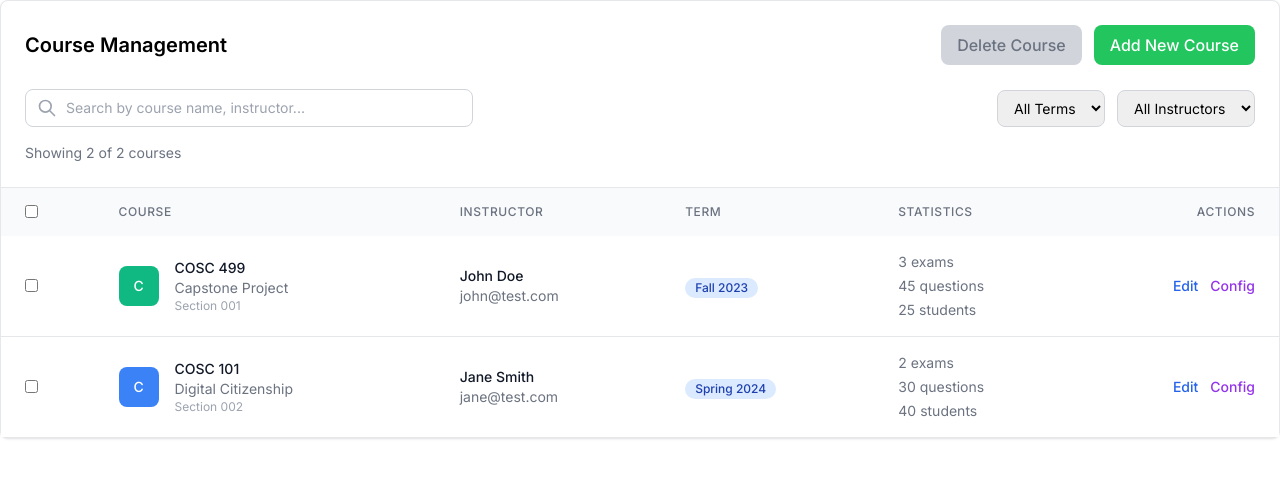
Scenario: CourseTable › clears filters when clear button is clicked
The image size is (1280, 491).
Expected: the heading "Course Management" is shown, [25,31,227,59]
# Apply some filters
Type "test" into the field with placeholder "Search by course name, instructor..." at [249, 108], box [25,89,473,127]
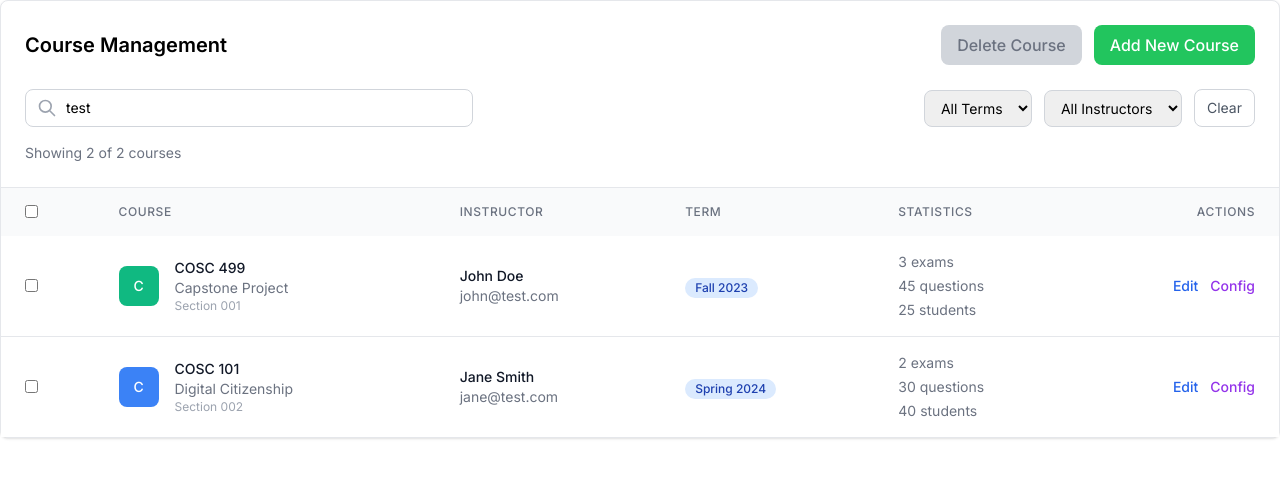
Select "term-1" in the 1st dropdown at [978, 108], box [924,90,1032,126]
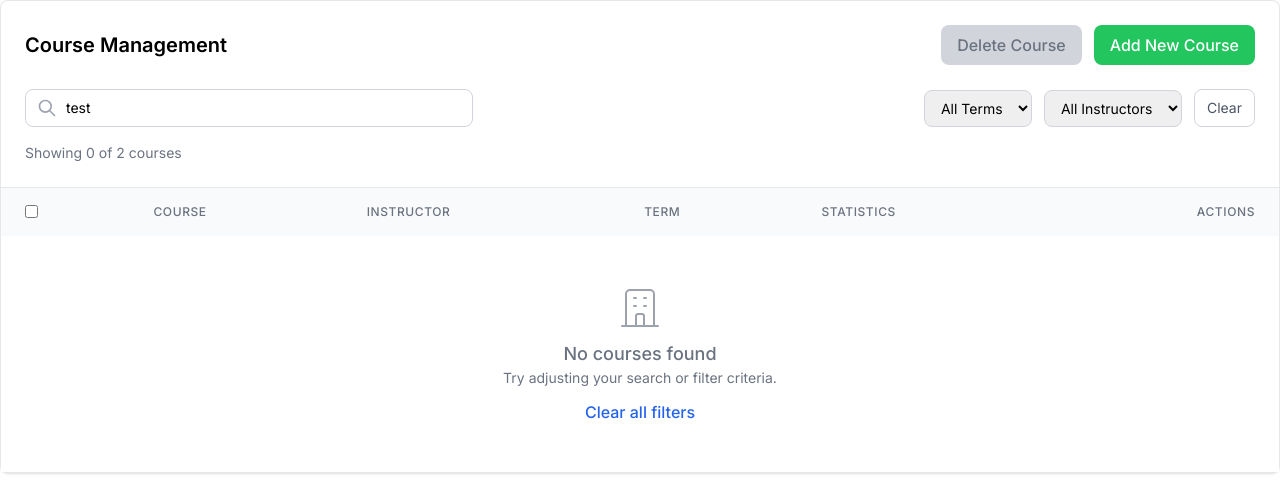
Expected: the button "Clear" is shown
# Clear filters
Click the button "Clear" at [1224, 108], box [1194,89,1255,127]
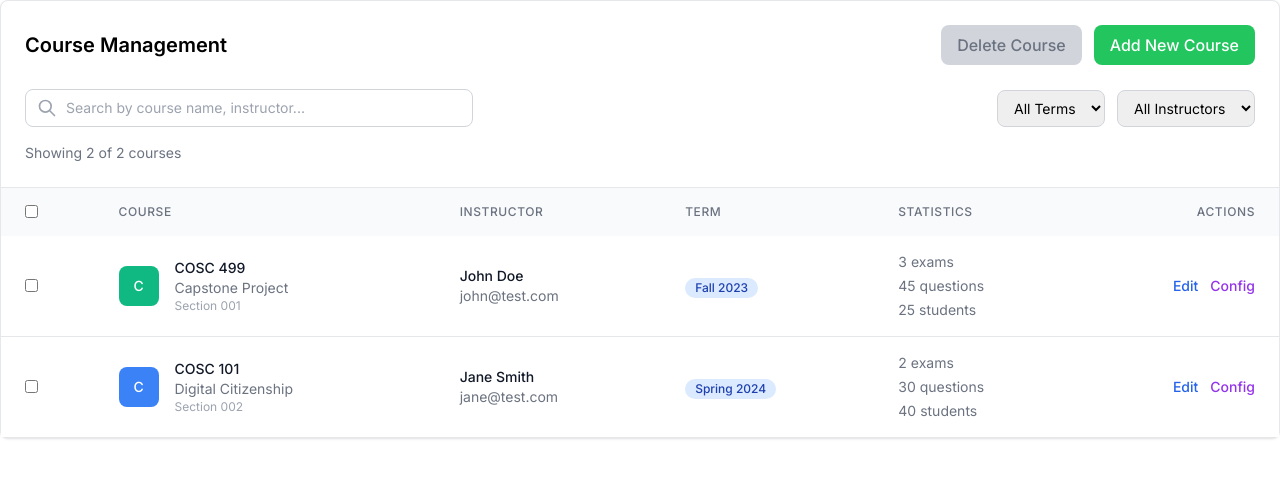
Expected: the field with placeholder "Search by course name, instructor..." is empty, [25,89,473,127]
